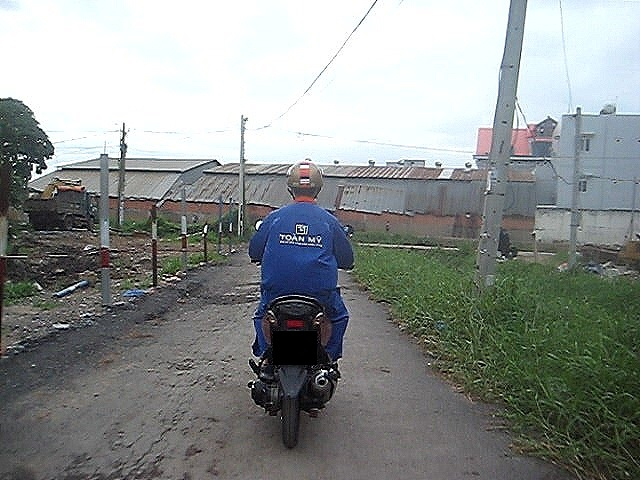hole: (147, 281, 258, 329), (159, 357, 233, 388)
